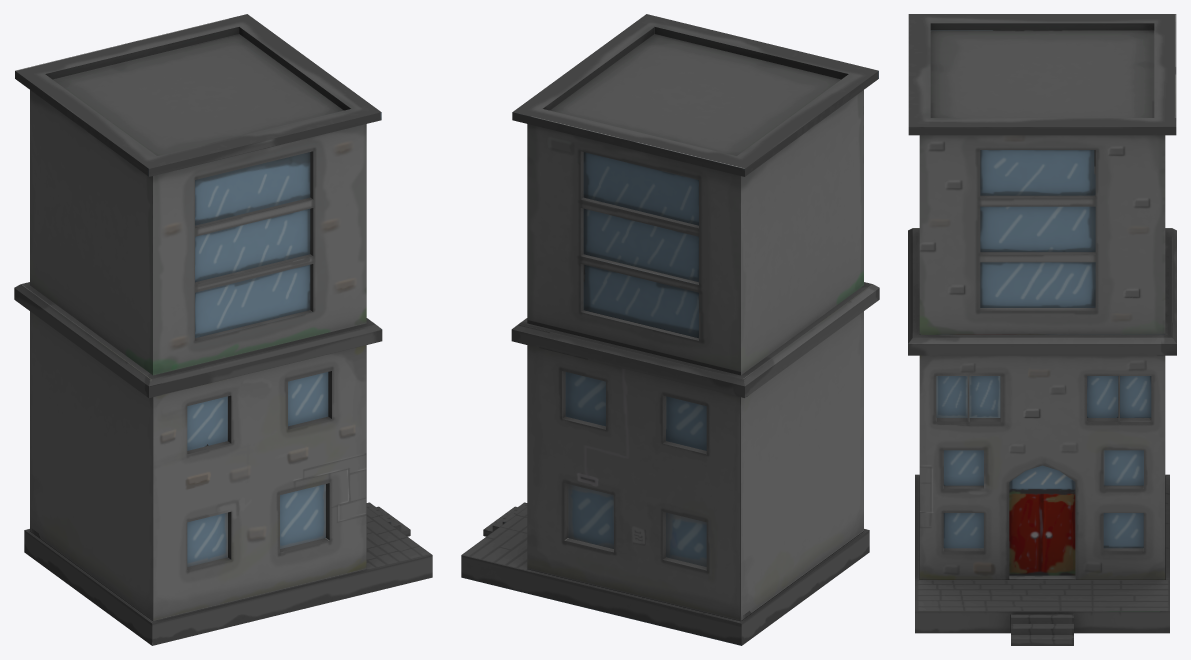
Rendered from Building.dae.
3 views of the same model, side by side, from view 1: azimuth 30°, elevation 25°; view 2: azimuth 150°, elevation 25°; view 3: azimuth 270°, elevation 25° (orthographic).
Parts seen in each view (by area): view 1: Cube.003; view 2: Cube.003; view 3: Cube.003.
Boxes of the visible parts, x1,y1,x2,y2 form: Cube.003: [14, 14, 432, 645]; Cube.003: [461, 14, 879, 645]; Cube.003: [908, 14, 1176, 645].
Size of the model in its own units: 2.93 by 2.19 by 4.3.
Materials: 1 (1 with a texture image).
